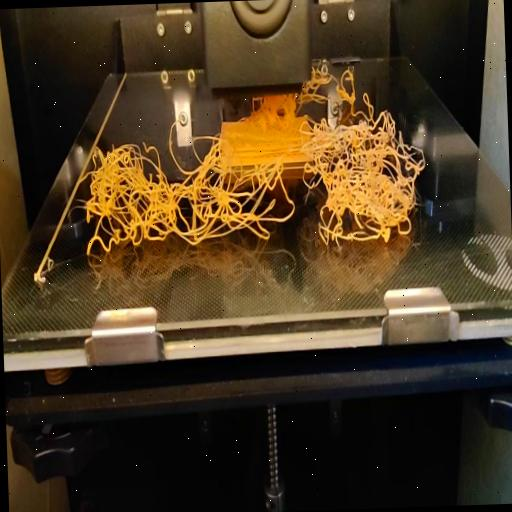spaghetti: (78, 92, 428, 264), (310, 62, 360, 102)
